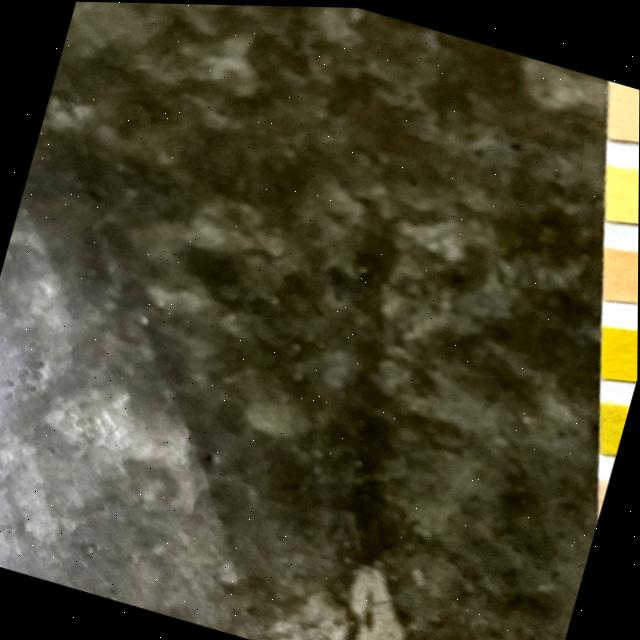Blood: (604, 322, 638, 372)
Protein: (606, 161, 639, 223)
SpGravity: (602, 399, 629, 445)
Urobilinogen: (608, 80, 640, 139)
pH: (602, 245, 639, 300)
